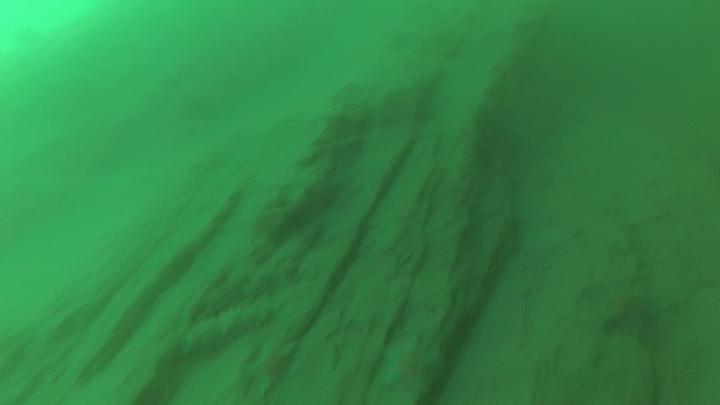holothurian: (180, 297, 294, 352)
starfish: (591, 283, 666, 346), (375, 334, 439, 391), (246, 339, 290, 396)
